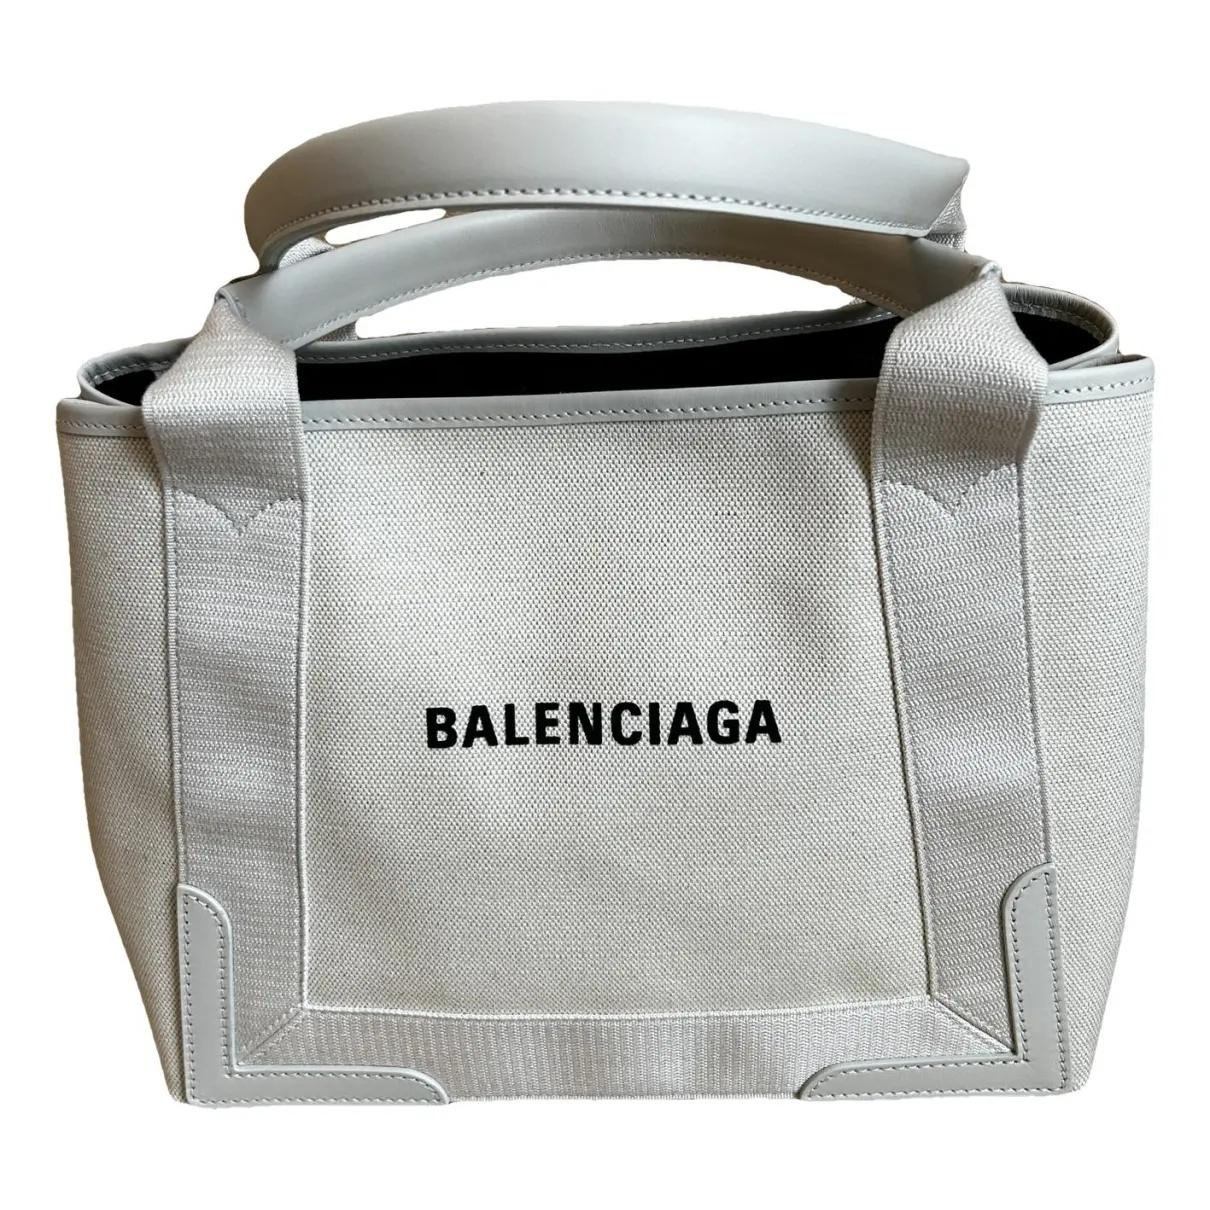BALENCIAGA: (425, 698, 783, 749)
